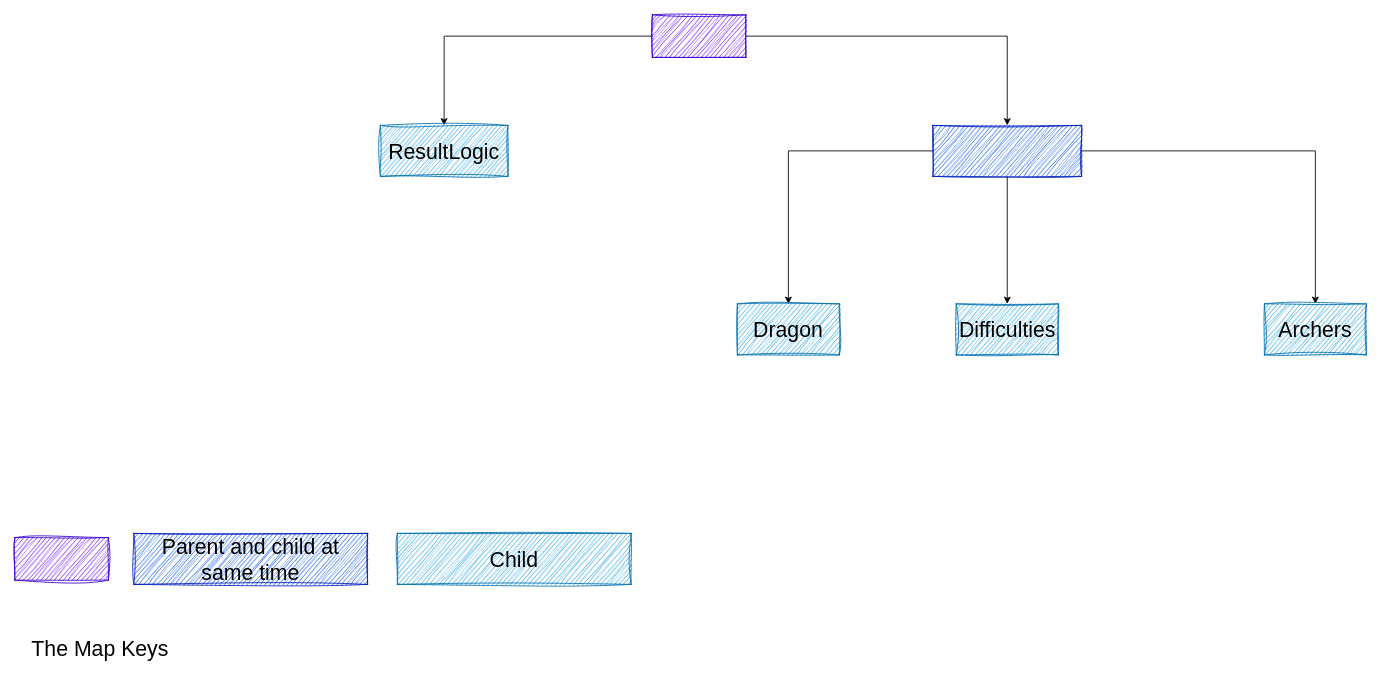
This 1381x680 diagram has some shape labels left out. The shapes that lost their labels are listed below. From the top down, each one's centre as x and y in pixels, then its label:
the point at 699,35: App
the point at 1007,150: GameBoard
the point at 61,558: Parent
